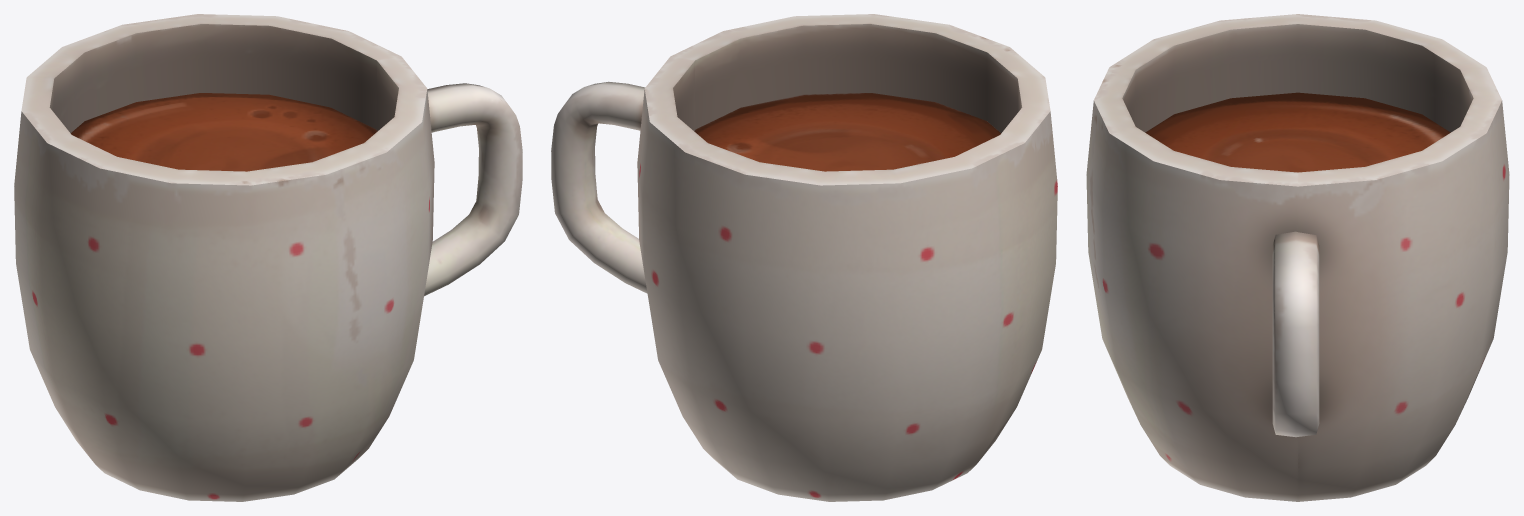
The model's file is Coffe Cup.fbx.
3 views of the same model, side by side, from view 1: azimuth 30°, elevation 25°; view 2: azimuth 150°, elevation 25°; view 3: azimuth 270°, elevation 25° (orthographic).
Visible parts, largest first — view 1: Coffee_cup; view 2: Coffee_cup; view 3: Coffee_cup.
Boxes of the visible parts, x1,y1,x2,y2 form: Coffee_cup: (14,14,522,501); Coffee_cup: (551,14,1057,501); Coffee_cup: (1086,14,1509,501).
Bounding box in the file's own units: 23.55 × 16.64 × 18.22.
Materials: 1 (1 with a texture image).
